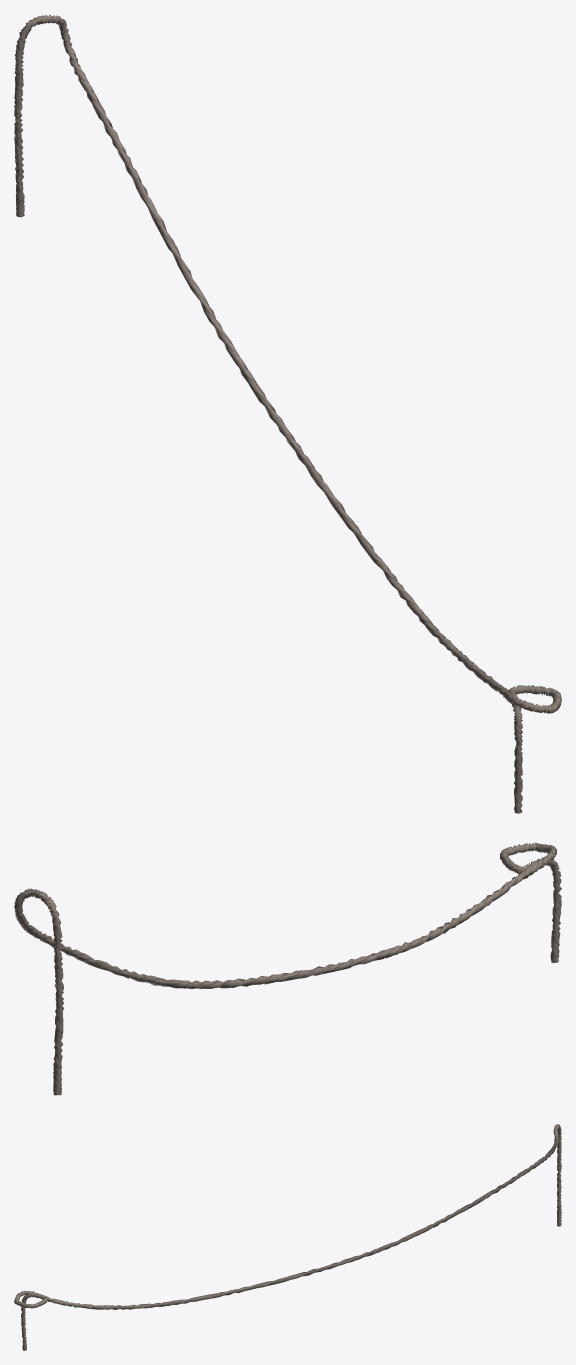
File: SM_RopeSplineMesh_Splines_28.fbx
3 renders of one model, top to bottom at view 1: azimuth 30°, elevation 25°; view 2: azimuth 150°, elevation 25°; view 3: azimuth 270°, elevation 25°, orthographic. The views are drawn at different scales.
Visible parts, largest first — view 1: SM_RopeSplineMesh_Splines_28; view 2: SM_RopeSplineMesh_Splines_28; view 3: SM_RopeSplineMesh_Splines_28.
Boxes of the visible parts, x1,y1,x2,y2 form: SM_RopeSplineMesh_Splines_28: [14, 14, 561, 813]; SM_RopeSplineMesh_Splines_28: [14, 842, 561, 1095]; SM_RopeSplineMesh_Splines_28: [14, 1124, 561, 1350].
Bounding box in the file's own units: 17.99 × 284 × 132.
